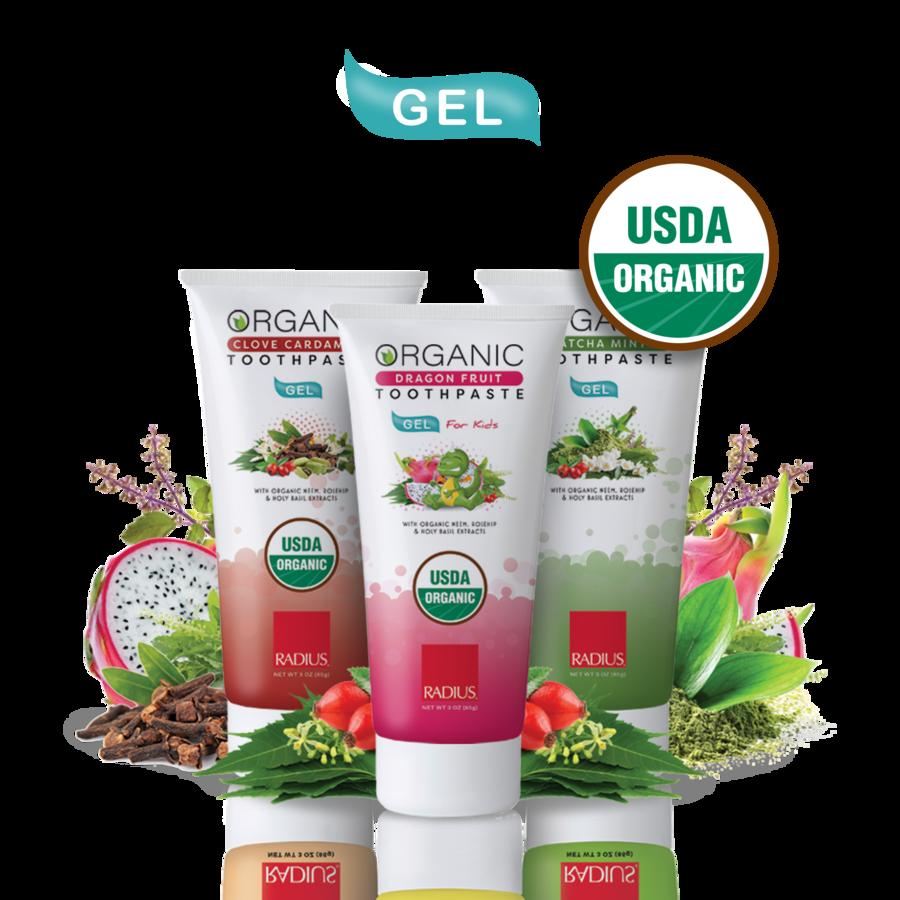toothpaste: (475, 263, 720, 782), (170, 243, 410, 768), (325, 270, 546, 833)
